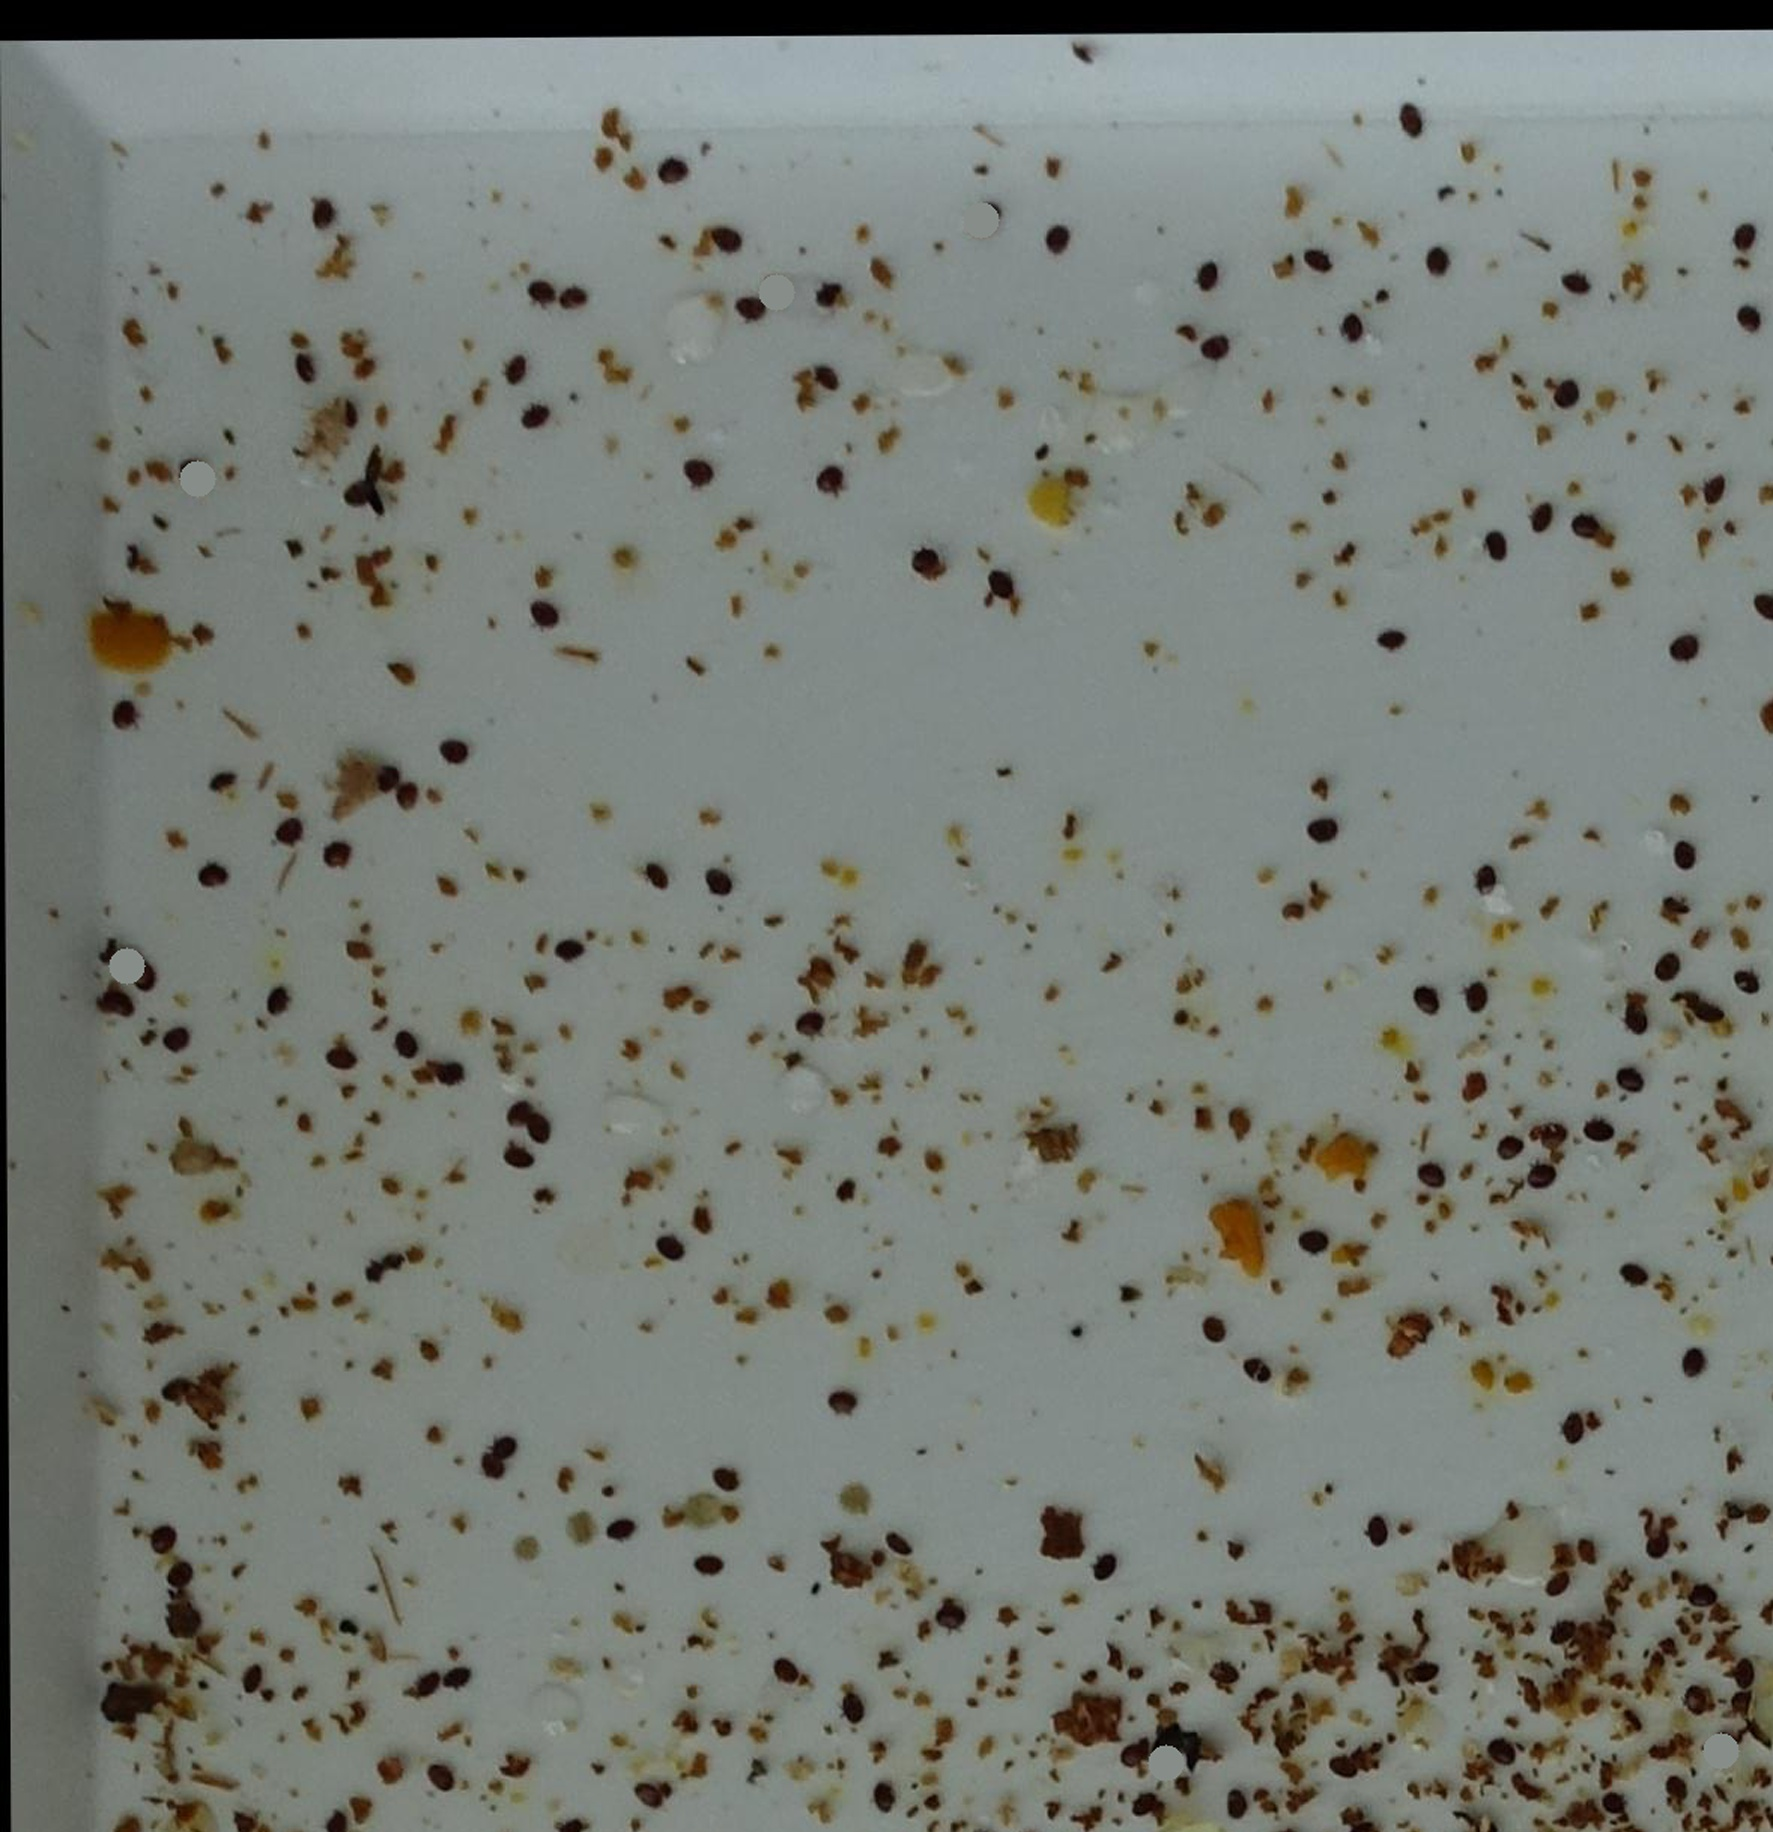Varroa: (200, 761, 244, 805), (121, 954, 165, 998), (85, 927, 129, 972), (384, 774, 429, 818), (1655, 883, 1699, 927), (429, 1052, 473, 1096), (497, 1091, 541, 1135), (929, 1595, 973, 1639), (101, 986, 144, 1032), (327, 391, 371, 433), (321, 1037, 363, 1081), (1531, 1112, 1573, 1156), (469, 1443, 512, 1487), (515, 406, 556, 448), (505, 1135, 545, 1179), (1115, 1731, 1156, 1770), (824, 1390, 864, 1428), (157, 1565, 195, 1600), (911, 546, 945, 582), (527, 278, 561, 314), (414, 1668, 448, 1704), (379, 770, 414, 805), (711, 229, 744, 265), (343, 479, 376, 515), (810, 365, 842, 401), (734, 294, 767, 329), (1040, 227, 1073, 262), (1086, 1544, 1119, 1578), (1698, 476, 1730, 509), (437, 1664, 469, 1696), (195, 862, 226, 896), (1328, 1745, 1359, 1780), (1415, 986, 1446, 1021), (644, 859, 676, 893), (1560, 1413, 1591, 1448), (1377, 628, 1408, 662), (1583, 1120, 1614, 1155), (285, 353, 316, 388), (1623, 1264, 1654, 1297), (1192, 267, 1223, 299), (322, 837, 353, 870), (110, 700, 141, 733), (162, 1377, 193, 1410), (1730, 221, 1762, 254), (1570, 517, 1601, 550), (1197, 334, 1228, 366), (522, 1114, 551, 1148), (1304, 252, 1335, 283), (234, 1668, 265, 1700), (500, 353, 532, 384), (1691, 991, 1722, 1022), (1670, 635, 1699, 667), (1202, 1315, 1232, 1348), (1740, 304, 1770, 337), (703, 865, 733, 898), (1207, 1667, 1238, 1696), (1364, 1520, 1394, 1551), (604, 1520, 633, 1551), (160, 1026, 190, 1057), (656, 164, 685, 195), (1524, 504, 1555, 533), (438, 734, 468, 766), (1462, 985, 1492, 1016), (147, 1521, 177, 1552), (1549, 376, 1578, 407), (1614, 1066, 1644, 1098), (1676, 1348, 1706, 1379), (1495, 1132, 1524, 1163), (1480, 530, 1510, 561), (870, 1781, 900, 1812), (1546, 1570, 1575, 1601), (1624, 1004, 1654, 1035), (880, 1531, 909, 1562), (813, 281, 842, 312), (1300, 1232, 1330, 1261), (1421, 250, 1451, 280), (797, 1013, 826, 1042), (1729, 1667, 1758, 1696), (1529, 1161, 1559, 1191), (556, 939, 586, 968), (823, 465, 851, 496), (1488, 1744, 1516, 1775), (1412, 1660, 1439, 1691), (280, 816, 307, 847), (1310, 815, 1338, 846), (711, 1466, 739, 1497), (396, 1035, 424, 1065), (697, 1554, 725, 1583), (429, 1760, 456, 1789), (1470, 864, 1498, 893), (1655, 955, 1683, 985), (1685, 1682, 1712, 1711), (559, 293, 587, 322), (635, 1783, 662, 1812), (1415, 1165, 1443, 1194), (986, 577, 1014, 607), (842, 1695, 870, 1724), (1129, 1789, 1156, 1819), (1243, 1358, 1271, 1385), (775, 1659, 803, 1686), (1691, 1587, 1719, 1614), (1222, 1793, 1250, 1821), (1551, 1621, 1577, 1650), (1673, 1776, 1699, 1806), (528, 600, 554, 628), (487, 1443, 514, 1471), (1737, 970, 1763, 998), (1398, 110, 1425, 137), (693, 458, 720, 486), (658, 1232, 684, 1259), (1564, 268, 1590, 296), (1340, 316, 1366, 343), (312, 203, 339, 231), (1645, 1529, 1672, 1557), (1670, 844, 1696, 870), (265, 988, 291, 1014), (1600, 1793, 1626, 1817)
